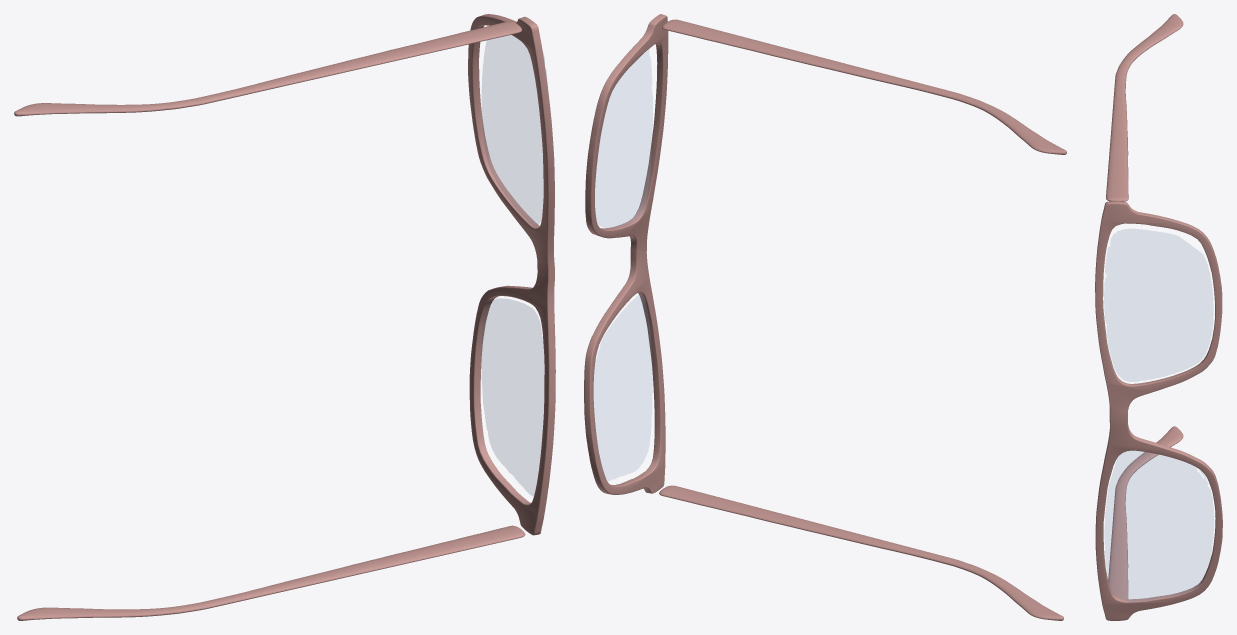
The model's file is model_0_dusty_rose.glb.
3 renders of one model, left to right at view 1: azimuth 30°, elevation 25°; view 2: azimuth 150°, elevation 25°; view 3: azimuth 270°, elevation 25°, orthographic. The views are drawn at different scales.
Parts seen in each view (by area): view 1: o model_0, Blue_Transparent_Lens_1, Blue_Transparent_Lens_2; view 2: o model_0, Blue_Transparent_Lens_1, Blue_Transparent_Lens_2; view 3: o model_0, Blue_Transparent_Lens_2, Blue_Transparent_Lens_1.
Part boxes in pixels (x1,y1,x2,y2): o model_0: (14,14,555,620); Blue_Transparent_Lens_1: (481,298,544,496); Blue_Transparent_Lens_2: (482,35,546,225); o model_0: (584,14,1066,620); Blue_Transparent_Lens_1: (594,295,652,480); Blue_Transparent_Lens_2: (595,49,652,227); o model_0: (1095,14,1222,620); Blue_Transparent_Lens_2: (1104,229,1213,381); Blue_Transparent_Lens_1: (1104,451,1213,601).
Size of the model in its own units: 12.74 by 12.44 by 3.46.
